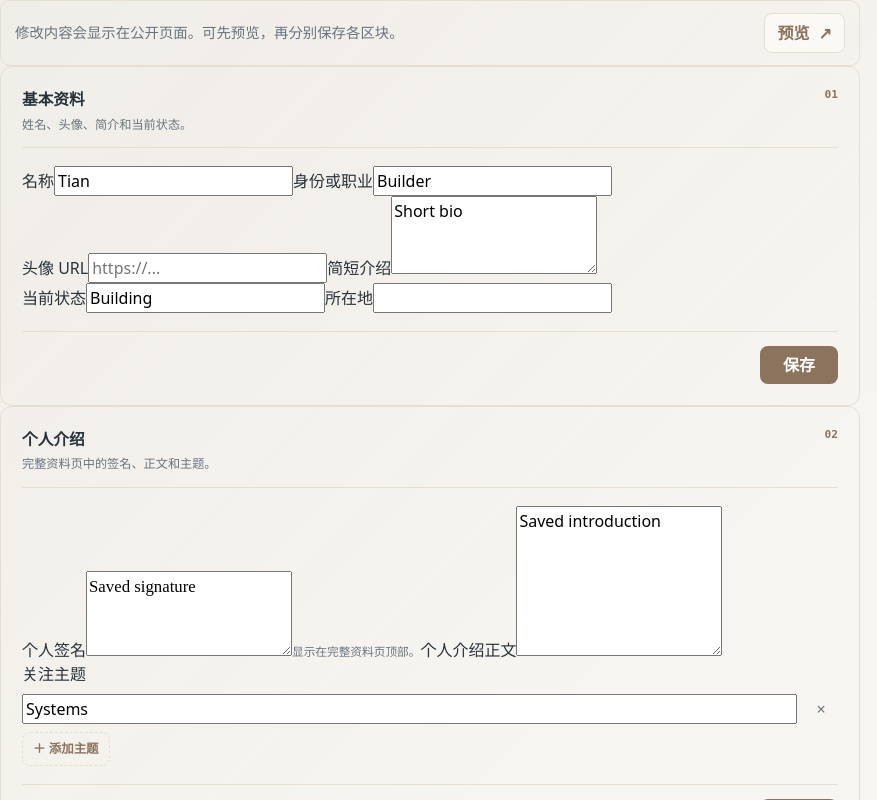
Test case: SettingsDomainPanel › shows a scoped conflict message when the profile revision is stale
Click the button with test id "profile-save-identity".
click(799, 365)  # box [760,346,838,384]
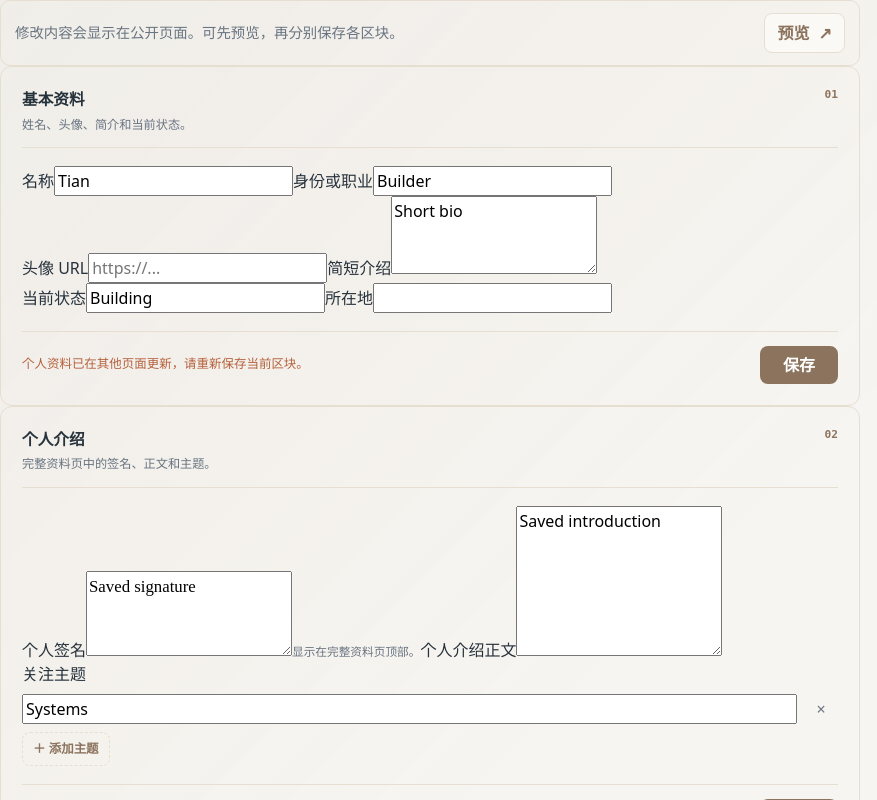
Result: the message "个人资料已在其他页面更新，请重新保存当前区块。" is shown at [22,355,309,374]
